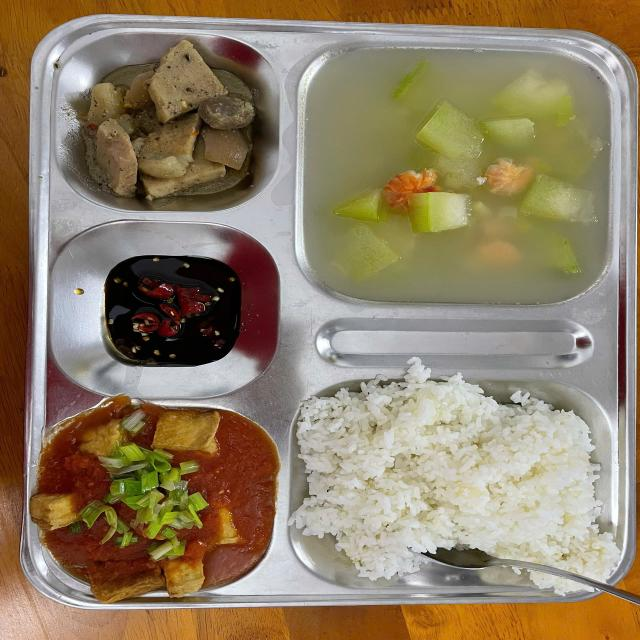canhbixanh: (302, 48, 612, 306)
dauhusotca: (38, 412, 276, 592)
salad: (298, 382, 610, 572)
thitkhogung: (70, 51, 260, 204)
